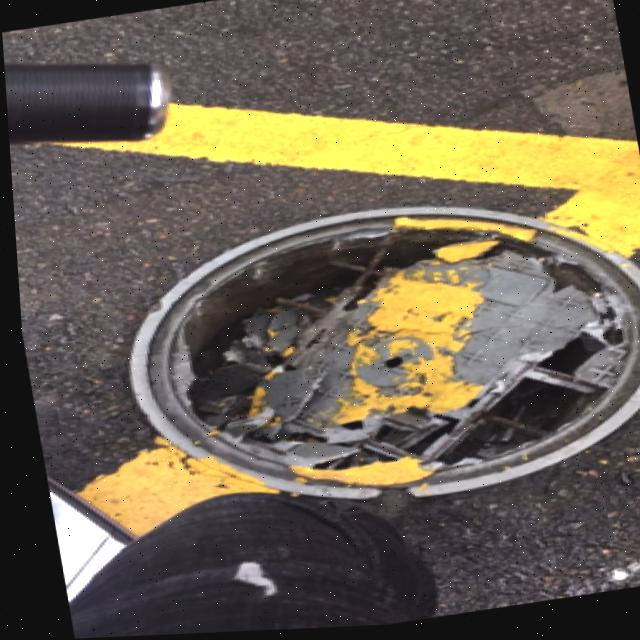manhole: (95, 175, 640, 532)
